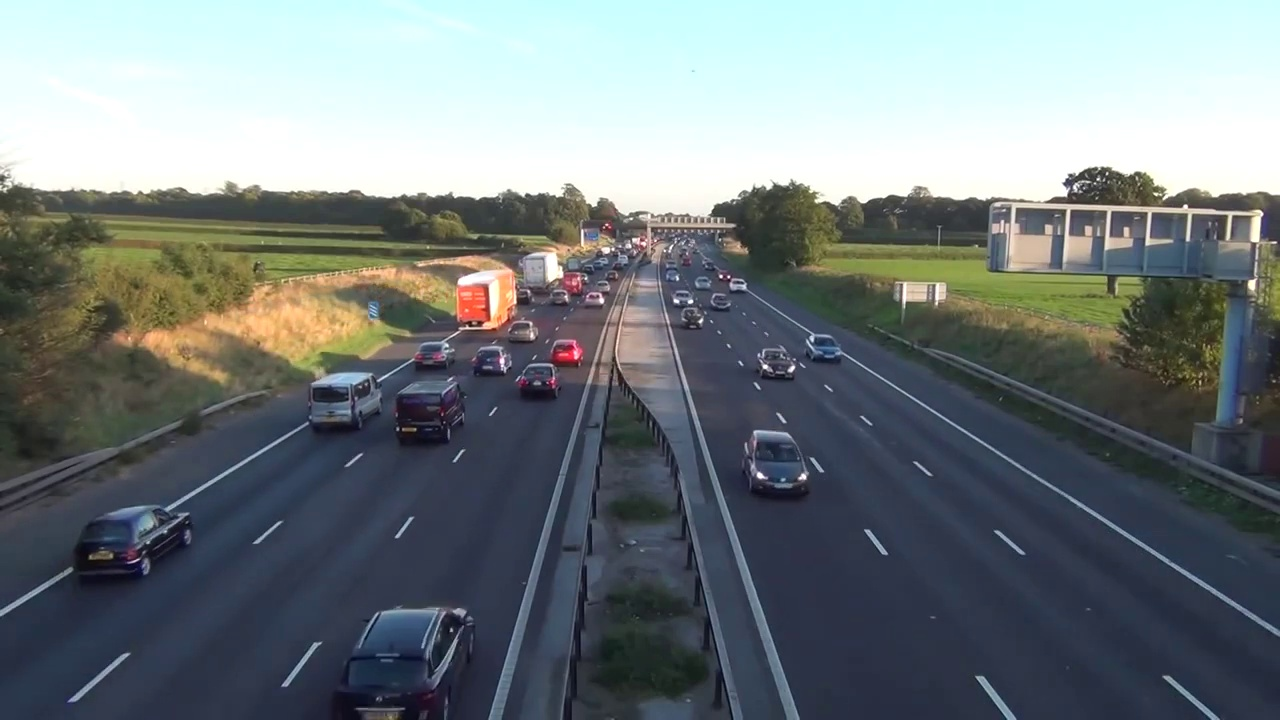bus: (327, 601, 482, 720), (73, 497, 194, 583), (738, 428, 808, 504), (516, 359, 563, 399), (751, 347, 798, 382), (470, 343, 512, 375), (804, 333, 844, 365), (414, 342, 458, 369), (550, 339, 586, 369), (508, 320, 539, 343), (680, 306, 703, 330), (669, 289, 695, 308), (516, 286, 537, 307), (710, 292, 732, 312), (586, 290, 605, 310), (550, 288, 570, 306), (728, 277, 749, 293), (594, 280, 613, 296), (693, 276, 713, 290), (716, 268, 734, 281), (664, 268, 681, 281), (604, 270, 619, 282), (582, 263, 595, 273), (557, 264, 564, 280), (704, 263, 717, 271), (613, 262, 625, 270), (594, 261, 604, 269), (580, 275, 589, 283)
car: (456, 267, 520, 334), (522, 249, 560, 295), (567, 255, 583, 274)
lorry: (394, 380, 477, 445), (308, 368, 389, 434), (564, 271, 584, 297)
